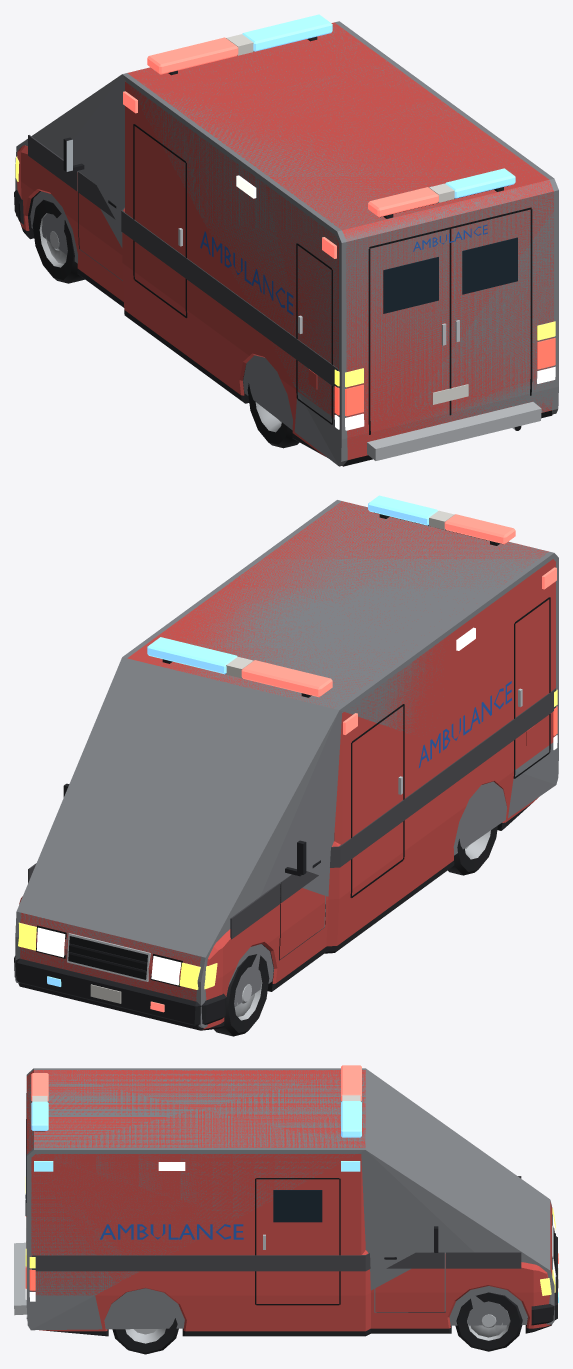
File: car_ambulance.glb
The picture shows the model from 3 angles, top to bottom: view 1: azimuth 30°, elevation 25°; view 2: azimuth 150°, elevation 25°; view 3: azimuth 270°, elevation 25°; orthographic projection. The views are drawn at different scales.
Parts seen in each view (by area): view 1: car_ambulance__body, car_ambulance__col_body, car_ambulance__door_fl, car_ambulance__wheel_fl, car_ambulance__wheel_rl; view 2: car_ambulance__col_body, car_ambulance__body, car_ambulance__door_fl, car_ambulance__wheel_fl, car_ambulance__wheel_rl; view 3: car_ambulance__body, car_ambulance__col_body, car_ambulance__door_fr, car_ambulance__wheel_fr, car_ambulance__wheel_rr.
Part boxes in pixels (x1,y1,x2,y2): car_ambulance__body: (14, 14, 555, 466); car_ambulance__col_body: (15, 21, 558, 466); car_ambulance__door_fl: (63, 137, 122, 280); car_ambulance__wheel_fl: (32, 199, 84, 283); car_ambulance__wheel_rl: (247, 383, 299, 448); car_ambulance__col_body: (15, 500, 558, 1028); car_ambulance__body: (14, 495, 557, 1030); car_ambulance__door_fl: (279, 840, 325, 959); car_ambulance__wheel_fl: (214, 954, 269, 1036); car_ambulance__wheel_rl: (448, 825, 497, 875); car_ambulance__body: (14, 1065, 558, 1336); car_ambulance__col_body: (26, 1068, 554, 1330); car_ambulance__door_fr: (375, 1226, 444, 1311); car_ambulance__wheel_fr: (455, 1292, 522, 1351); car_ambulance__wheel_rr: (112, 1318, 178, 1354).
Size of what is drawn, in the model's own units: 2.43 by 2.74 by 6.19.
Materials: 13 (2 with a texture image).
